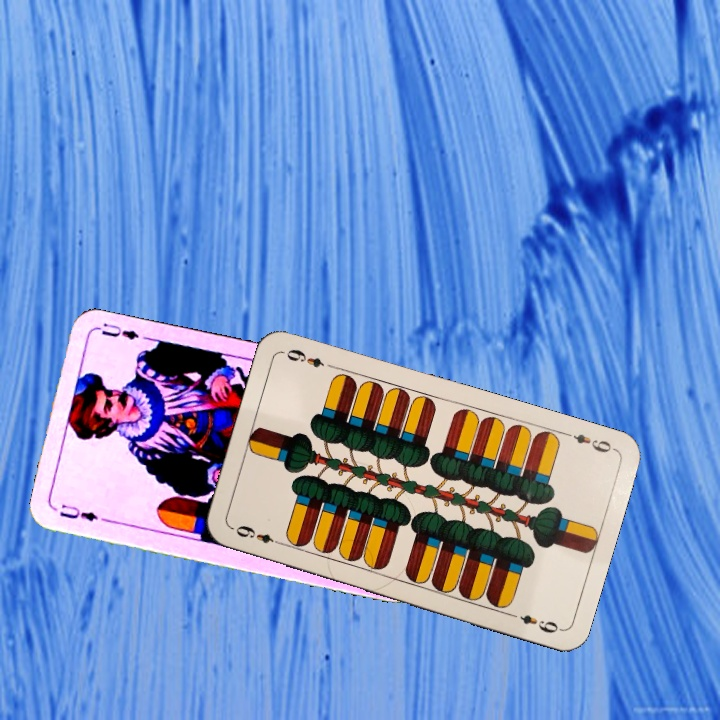E9: (228, 521, 286, 549), (559, 428, 617, 456)
EU: (55, 500, 101, 524)
